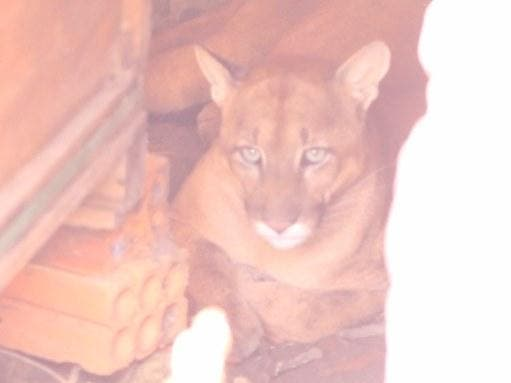OncaParda: (174, 39, 385, 329)
